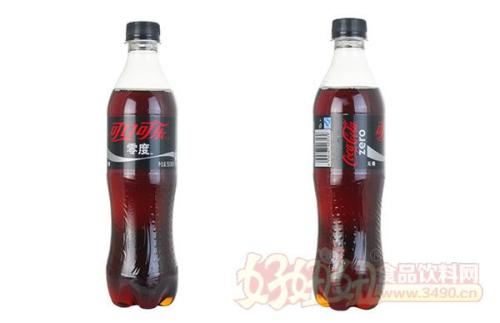coke_zero: (297, 8, 401, 317), (94, 11, 189, 315)
